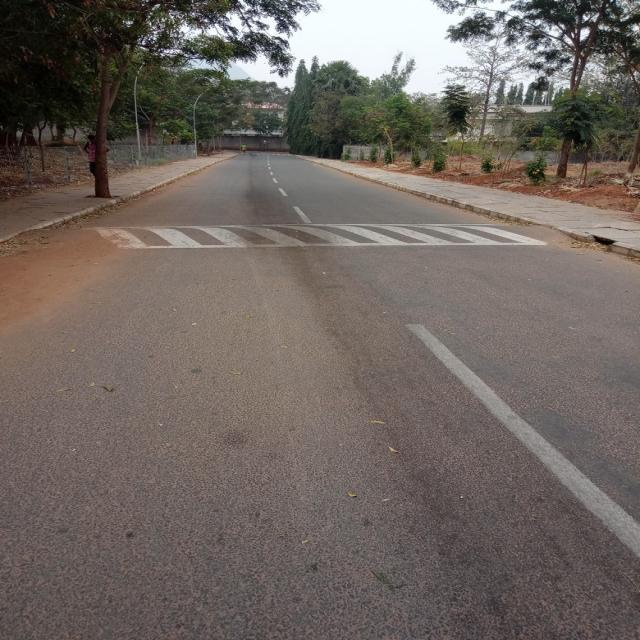speedbreaker: (80, 218, 556, 255)
